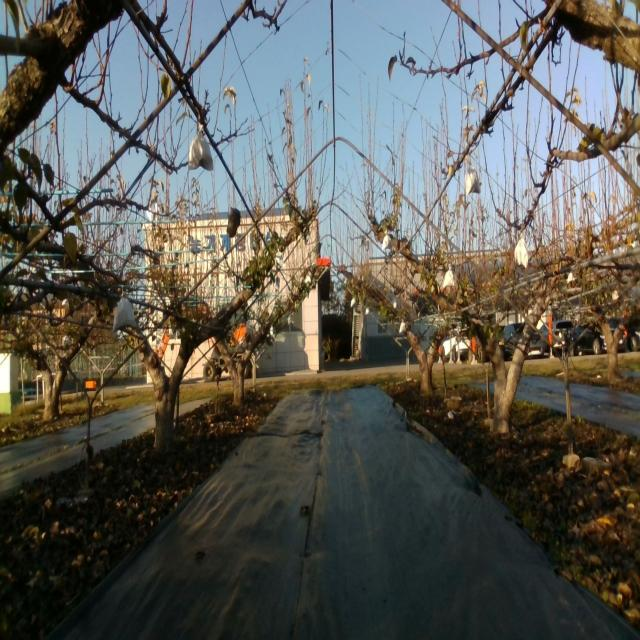pearbags: (188, 119, 215, 172), (112, 296, 136, 334), (464, 161, 480, 195), (513, 240, 529, 271), (444, 263, 456, 289)
